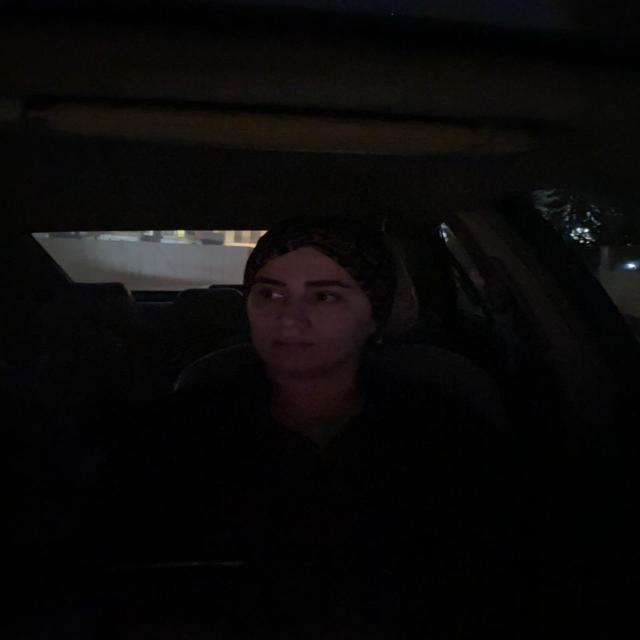person: (244, 232, 374, 364)
